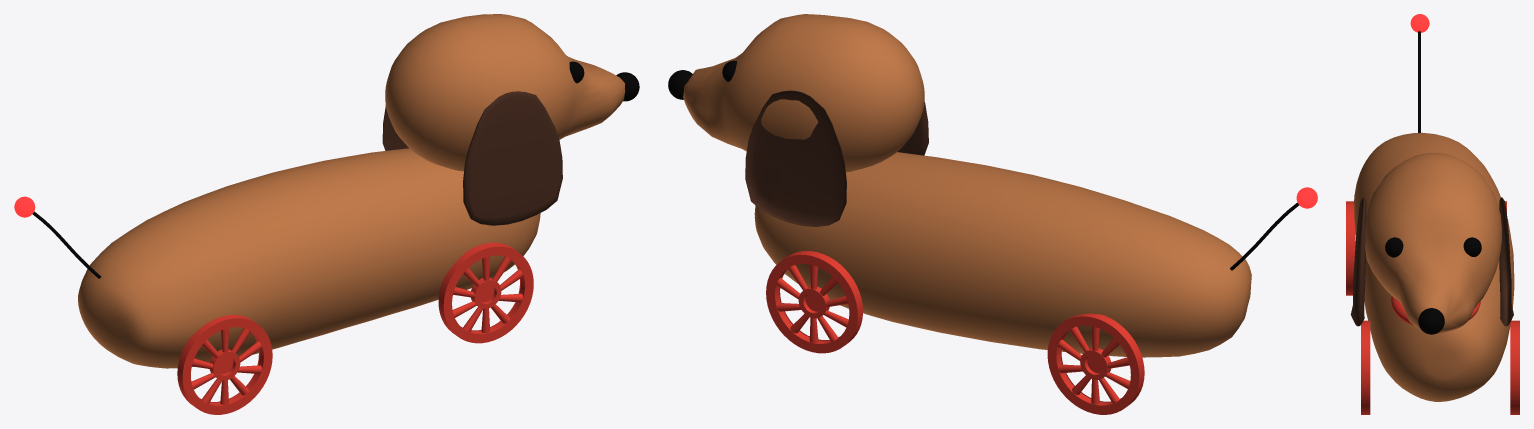
Rendered from dogtoy1.gltf.
3 views of the same model, side by side, from view 1: azimuth 30°, elevation 25°; view 2: azimuth 150°, elevation 25°; view 3: azimuth 270°, elevation 25° (orthographic). The views are drawn at different scales.
Parts seen in each view (by area): view 1: Sphere.001, Sphere, BezierCircle.001, Cube.001; view 2: Sphere.001, Sphere, BezierCircle.001, Cube.001; view 3: Sphere, Sphere.001, BezierCircle.001, Cube.001, Sphere.004, Torus, BezierCurve, Sphere.003, Sphere.002, Sphere.005.
Part boxes in pixels (x1=…): Sphere.001: x1=78, y1=148, x2=540, y2=368; Sphere: x1=385, y1=14, x2=625, y2=171; BezierCircle.001: x1=177, y1=242, x2=533, y2=414; Cube.001: x1=382, y1=91, x2=562, y2=225; Sphere.001: x1=754, y1=152, x2=1251, y2=357; Sphere: x1=683, y1=14, x2=924, y2=172; BezierCircle.001: x1=766, y1=251, x2=1144, y2=414; Cube.001: x1=745, y1=90, x2=928, y2=226; Sphere: x1=1365, y1=153, x2=1501, y2=333; Sphere.001: x1=1354, y1=132, x2=1514, y2=401; BezierCircle.001: x1=1346, y1=201, x2=1519, y2=414; Cube.001: x1=1350, y1=197, x2=1513, y2=326; Sphere.004: x1=1418, y1=308, x2=1444, y2=334; Torus: x1=1391, y1=296, x2=1480, y2=325; BezierCurve: x1=1418, y1=31, x2=1420, y2=132; Sphere.003: x1=1385, y1=237, x2=1403, y2=257; Sphere.002: x1=1410, y1=14, x2=1429, y2=32; Sphere.005: x1=1463, y1=237, x2=1481, y2=256.
Size of the model in its own units: 1.61 by 0.6956 by 0.426.
